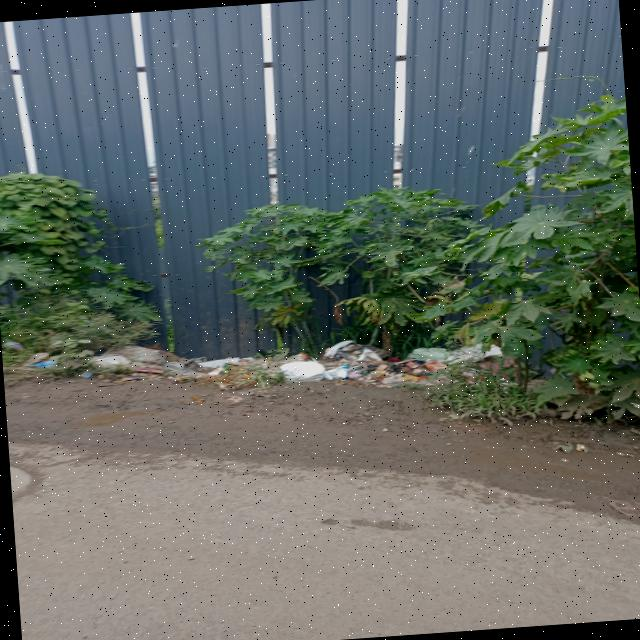garbage: (81, 310, 478, 404)
